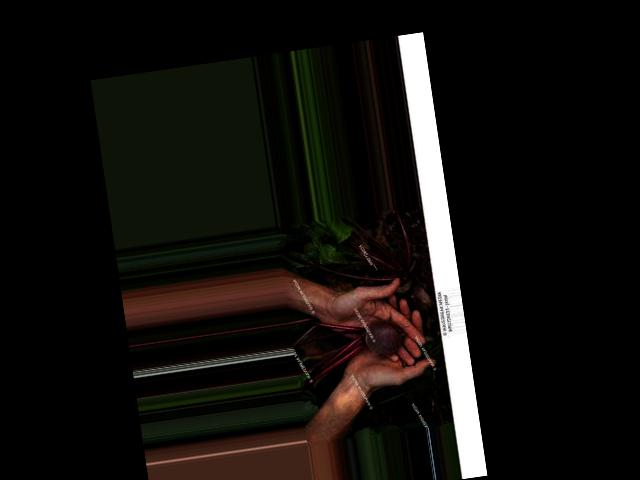beet: (293, 308, 411, 390)
